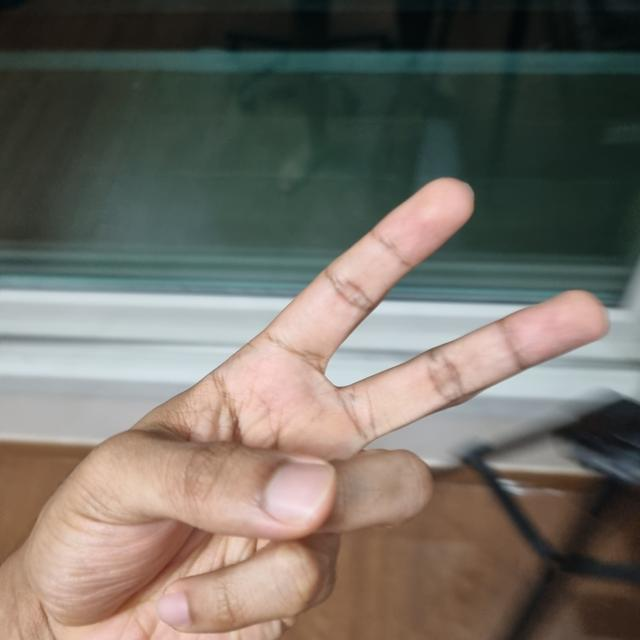Scissors: (1, 179, 615, 640)
